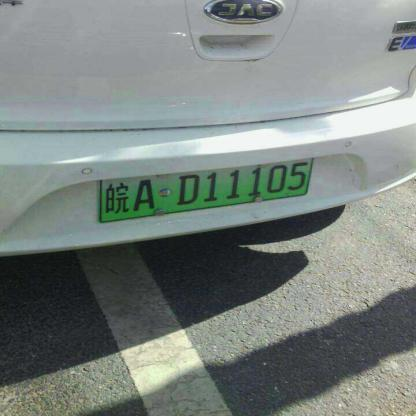lp: (98, 157, 314, 222)
